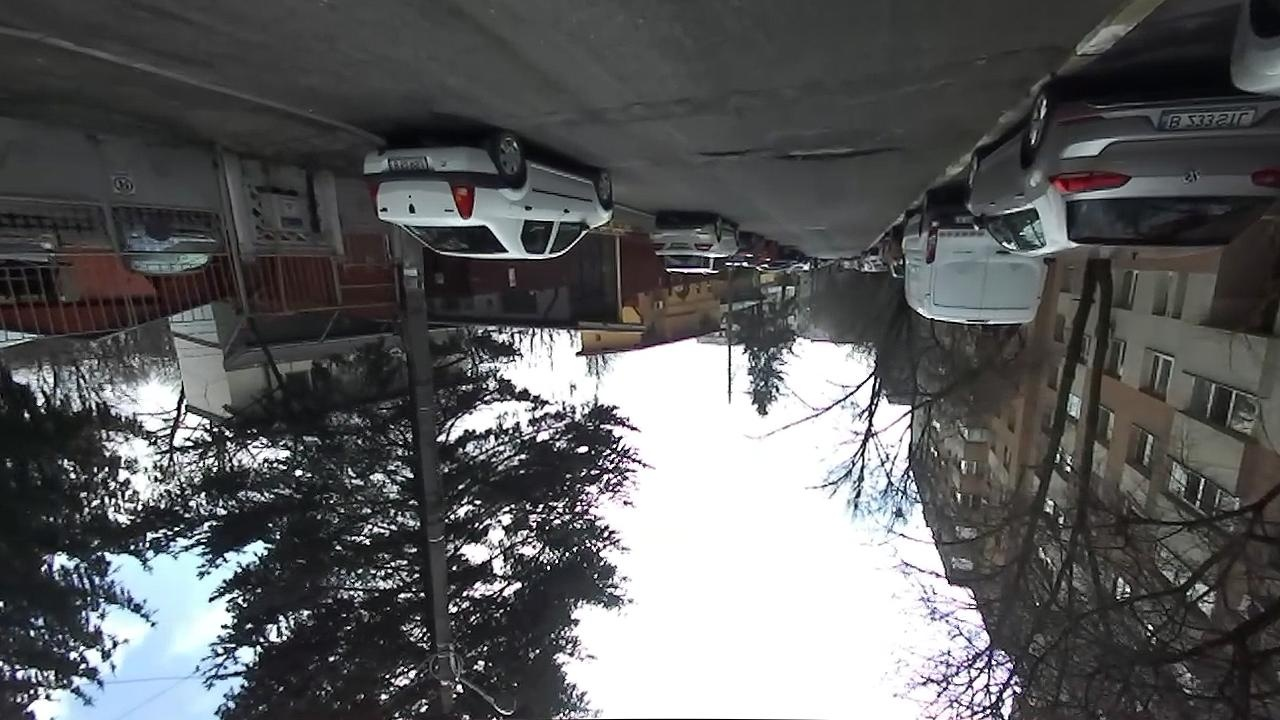pothole: (775, 141, 905, 164), (696, 146, 762, 160)
